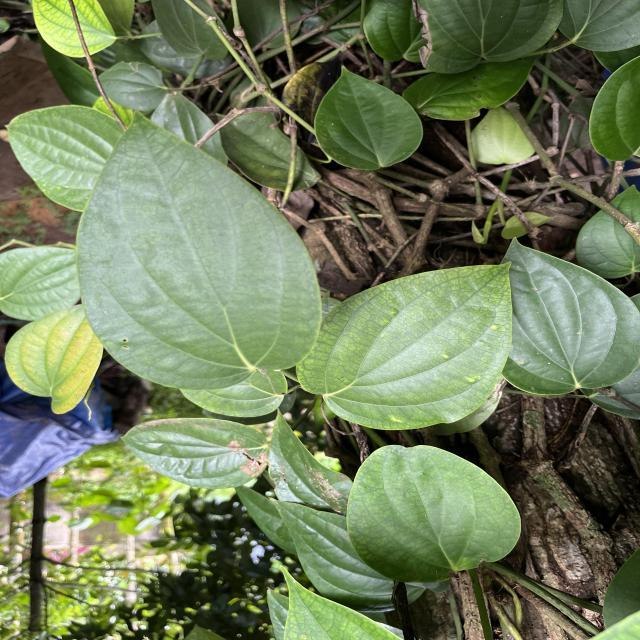Piper nigrum: (74, 106, 326, 393), (294, 260, 516, 432), (345, 443, 523, 585), (312, 64, 425, 172), (119, 416, 269, 491)
